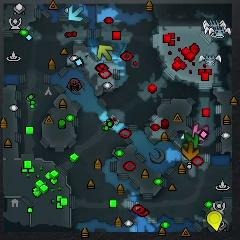p4: (207, 212, 222, 232)
x1: (192, 123, 210, 138)
x2: (95, 45, 113, 61)
x3: (68, 5, 85, 21)
x4: (184, 133, 199, 147)
x5: (182, 143, 200, 160)
